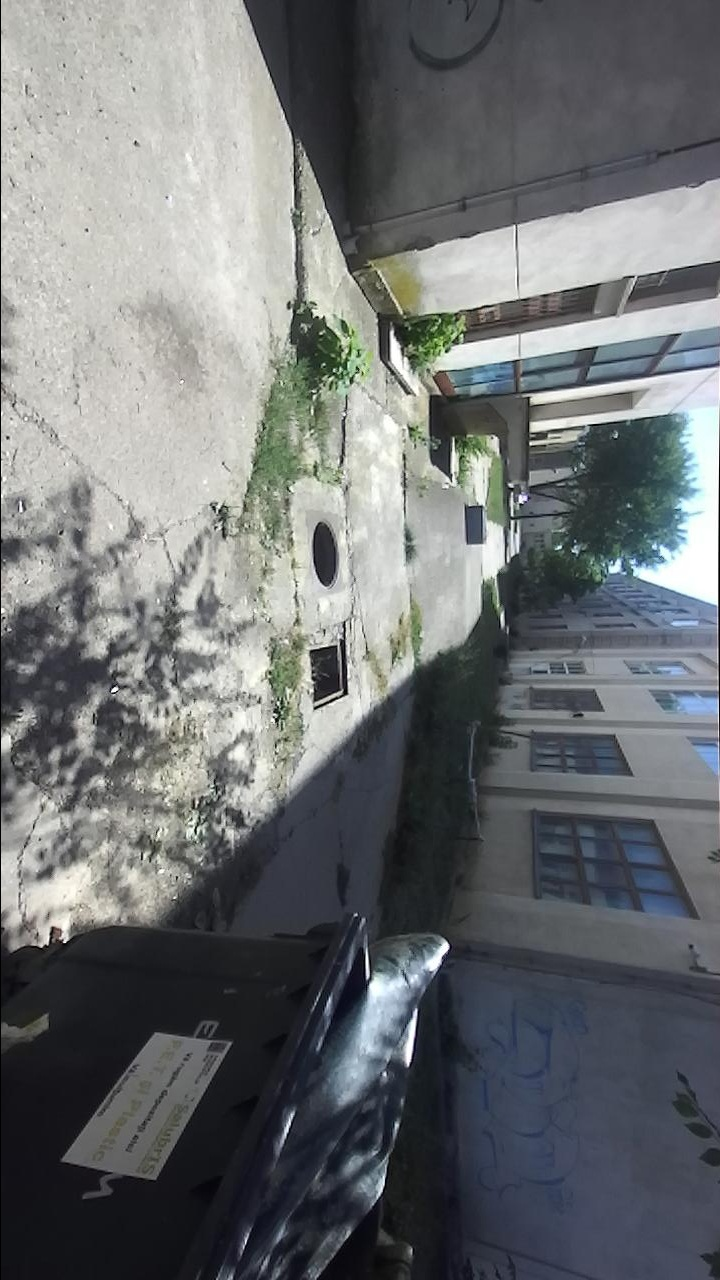drain: (309, 637, 351, 714), (308, 514, 345, 594)
